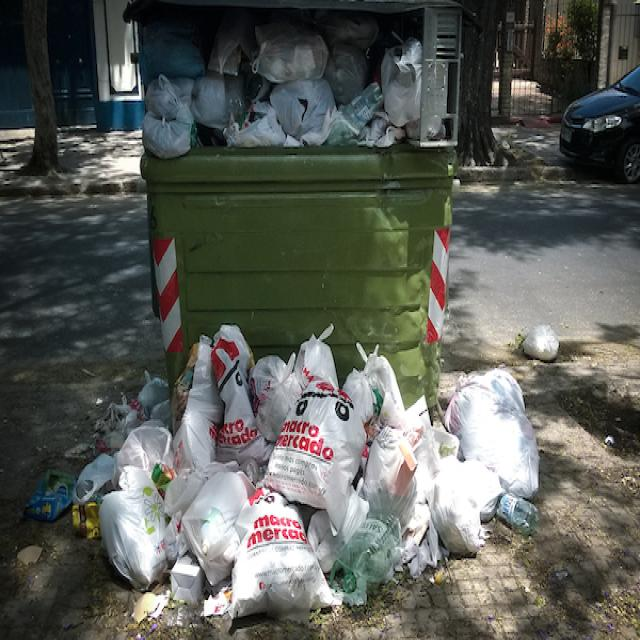garbage: (99, 330, 540, 624), (136, 15, 426, 156), (27, 441, 113, 541), (514, 316, 568, 364)
